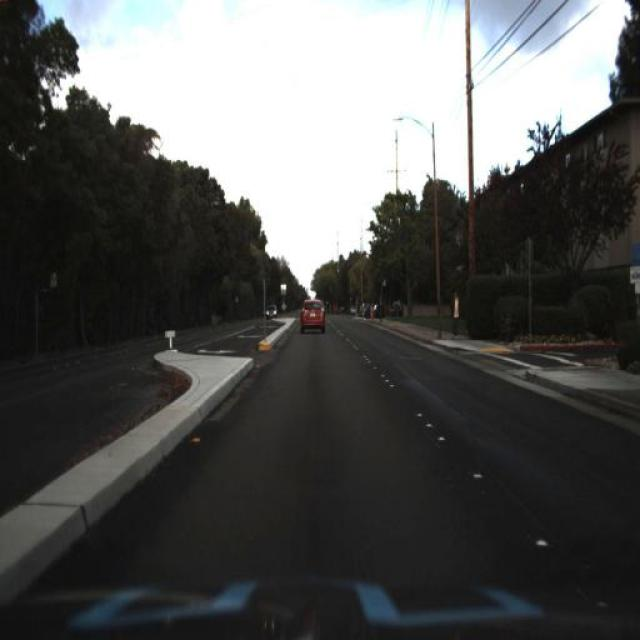car: (298, 294, 327, 336), (262, 296, 282, 322)
trafficLight: (448, 289, 463, 339)
